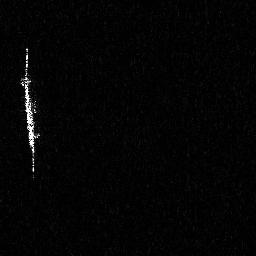ship: (20, 44, 42, 185)
